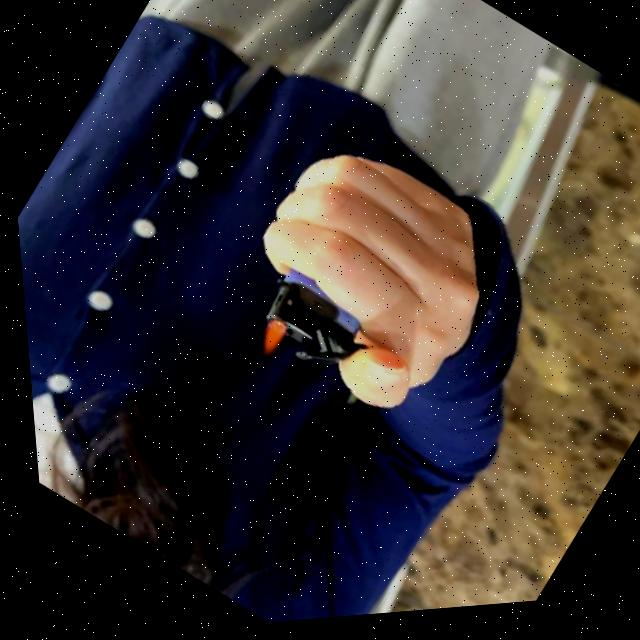Fire: (246, 319, 287, 364)
